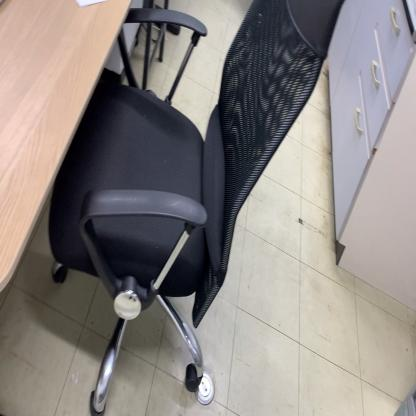chair: (46, 0, 351, 411)
